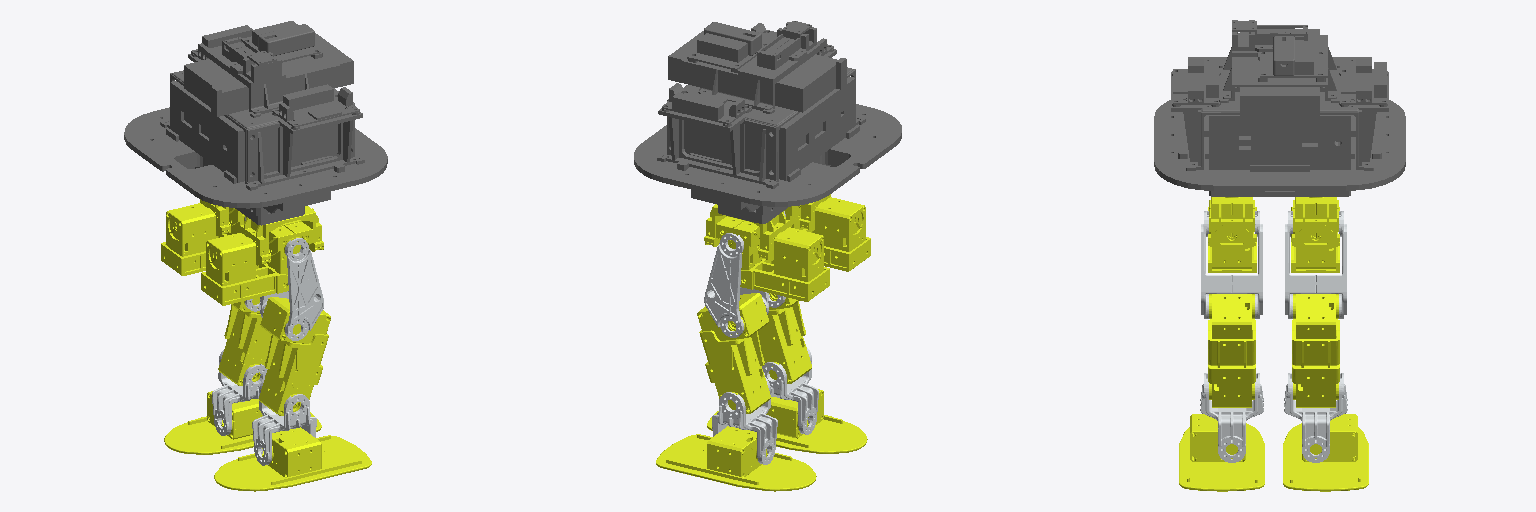
robot.urdf — exhx5_w_b_16:
<?xml version="1.0" encoding="utf-8"?>
<!-- This URDF was automatically created by SolidWorks to URDF Exporter! Originally created by [author] ([email redacted]) 
     Commit Version: 1.5.1-0-g916b5db  Build Version: 1.5.7152.31018
     For more information, please see http://wiki.ros.org/sw_urdf_exporter -->
<robot
  name="exhx5_w_b_16">
  <link
    name="body_link">
    <inertial>
      <origin
        xyz="0.00043545 0.00025536 0.10071"
        rpy="0 0 0" />
      <mass
        value="1.8238" />
      <inertia
        ixx="0.0025905"
        ixy="-5.6852E-06"
        ixz="-1.3106E-05"
        iyy="0.0024595"
        iyz="-1.261E-06"
        izz="0.0046407" />
    </inertial>
    <visual>
      <origin
        xyz="0 0 0"
        rpy="0 0 0" />
      <geometry>
        <mesh
          filename="../meshes/body_link.STL" />
      </geometry>
      <material
        name="">
        <color
          rgba="0.49804 0.49804 0.49804 1" />
      </material>
    </visual>
    <collision>
      <origin
        xyz="0 0 0"
        rpy="0 0 0" />
      <geometry>
        <mesh
          filename="../meshes/body_link.STL" />
      </geometry>
    </collision>
  </link>

  <link
    name="imu_link">
    <inertial>
      <origin
        xyz="-0.008387 1.336E-17 -0.0069463"
        rpy="0 0 0" />
      <mass
        value="0.0062931" />
      <inertia
        ixx="3.2242E-07"
        ixy="3.3527E-22"
        ixz="-6.9193E-08"
        iyy="9.2229E-07"
        iyz="-8.0392E-22"
        izz="1.1018E-06" />
    </inertial>
    <visual>
      <origin
        xyz="0 0 0"
        rpy="0 0 0" />
      <geometry>
        <mesh
          filename="../meshes/imu_link.STL" />
      </geometry>
      <material
        name="">
        <color
          rgba="0.79216 0.81961 0.93333 1" />
      </material>
    </visual>
    <collision>
      <origin
        xyz="0 0 0"
        rpy="0 0 0" />
      <geometry>
        <mesh
          filename="../meshes/imu_link.STL" />
      </geometry>
    </collision>
  </link>
  <joint
    name="imu"
    type="fixed">
    <origin
      xyz="0 0 0.0492"
      rpy="0 0 0" />
    <parent
      link="body_link" />
    <child
      link="imu_link" />
    <axis
      xyz="0 0 0" />
    <limit
      lower="-3.14"
      upper="3.14"
      effort="4"
      velocity="4" />
  </joint>
  <link
    name="l_hip_g_link">
    <inertial>
      <origin
        xyz="-0.0043797 -8.6604E-08 0.011813"
        rpy="0 0 0" />
      <mass
        value="0.061008" />
      <inertia
        ixx="1.167E-05"
        ixy="7.1767E-11"
        ixz="9.1442E-09"
        iyy="2.2342E-05"
        iyz="2.5177E-11"
        izz="2.4892E-05" />
    </inertial>
    <visual>
      <origin
        xyz="0 0 0"
        rpy="0 0 0" />
      <geometry>
        <mesh
          filename="../meshes/l_hip_g_link.STL" />
      </geometry>
      <material
        name="">
        <color
          rgba="0.9451 1 0.18431 1" />
      </material>
    </visual>
    <collision>
      <origin
        xyz="0 0 0"
        rpy="0 0 0" />
      <geometry>
        <mesh
          filename="../meshes/l_hip_g_link.STL" />
      </geometry>
    </collision>
  </link>
  <joint
    name="l_hip_g"
    type="fixed">
    <origin
      xyz=".001 .030 0"
      rpy="0 0 0" />
    <parent
      link="body_link" />
    <child
      link="l_hip_g_link" />
    <axis
      xyz="0 0 0" />
  </joint>
  <link
    name="l_hip_roll_link">
    <inertial>
      <origin
        xyz="0.013831 0.00033457 0.025453"
        rpy="0 0 0" />
      <mass
        value="0.2969" />
      <inertia
        ixx="7.8136E-05"
        ixy="7.265E-07"
        ixz="-6.9809E-08"
        iyy="9.2183E-05"
        iyz="-5.6881E-11"
        izz="7.1034E-05" />
    </inertial>
    <visual>
      <origin
        xyz="0 0 0"
        rpy="0 0 0" />
      <geometry>
        <mesh
          filename="../meshes/l_hip_roll_link.STL" />
      </geometry>
      <material
        name="">
        <color
          rgba="0.9451 1 0.18431 1" />
      </material>
    </visual>
    <collision>
      <origin
        xyz="0 0 0"
        rpy="0 0 0" />
      <geometry>
        <mesh
          filename="../meshes/l_hip_roll_link.STL" />
      </geometry>
    </collision>
  </link>
  <joint
    name="l_hip_roll"
    type="revolute">
    <origin
      xyz="0 0 0"
      rpy="3.1416 1.5708 0" />
    <parent
      link="l_hip_g_link" />
    <child
      link="l_hip_roll_link" />
    <axis
      xyz="0 0 1" />
    <limit
      lower="-3.14"
      upper="3.14"
      effort="4"
      velocity="4" />
  </joint>
  <link
    name="l_hip_pitch_link">
    <inertial>
      <origin
        xyz="0.041225 -0.007321 -5.0713E-08"
        rpy="0 0 0" />
      <mass
        value="0.051592" />
      <inertia
        ixx="2.7959E-05"
        ixy="2.0752E-06"
        ixz="-8.0934E-11"
        iyy="4.8156E-05"
        iyz="3.6317E-11"
        izz="2.9604E-05" />
    </inertial>
    <visual>
      <origin
        xyz="0 0 0"
        rpy="0 0 0" />
      <geometry>
        <mesh
          filename="../meshes/l_hip_pitch_link.STL" />
      </geometry>
      <material
        name="">
        <color
          rgba="0.89804 0.91765 0.92941 1" />
      </material>
    </visual>
    <collision>
      <origin
        xyz="0 0 0"
        rpy="0 0 0" />
      <geometry>
        <mesh
          filename="../meshes/l_hip_pitch_link.STL" />
      </geometry>
    </collision>
  </link>
  <joint
    name="l_hip_pitch"
    type="revolute">
    <origin
      xyz="0 0 0"
      rpy="1.5708 0 0" />
    <parent
      link="l_hip_roll_link" />
    <child
      link="l_hip_pitch_link" />
    <axis
      xyz="0 0 1" />
    <limit
      lower="-3.14"
      upper="3.14"
      effort="4"
      velocity="4" />
  </joint>
  <link
    name="l_knee_link">
    <inertial>
      <origin
        xyz="0.033756 -0.0084189 -6.6115E-09"
        rpy="0 0 0" />
      <mass
        value="0.28878" />
      <inertia
        ixx="6.6724E-05"
        ixy="7.5004E-07"
        ixz="-8.4578E-07"
        iyy="6.5699E-05"
        iyz="4.1085E-07"
        izz="7.0381E-05" />
    </inertial>
    <visual>
      <origin
        xyz="0 0 0"
        rpy="0 0 0" />
      <geometry>
        <mesh
          filename="../meshes/l_knee_link.STL" />
      </geometry>
      <material
        name="">
        <color
          rgba="0.9451 1 0.18431 1" />
      </material>
    </visual>
    <collision>
      <origin
        xyz="0 0 0"
        rpy="0 0 0" />
      <geometry>
        <mesh
          filename="../meshes/l_knee_link.STL" />
      </geometry>
    </collision>
  </link>
  <joint
    name="l_knee"
    type="revolute">
    <origin
      xyz="0.075954 0 0"
      rpy="0 0 0" />
    <parent
      link="l_hip_pitch_link" />
    <child
      link="l_knee_link" />
    <axis
      xyz="0 0 1" />
    <limit
      lower="-3.14"
      upper="3.14"
      effort="4"
      velocity="4" />
  </joint>
  <link
    name="l_ank_pitch_link">
    <inertial>
      <origin
        xyz="0.022786 -7.3909E-09 -7.1981E-06"
        rpy="0 0 0" />
      <mass
        value="0.044772" />
      <inertia
        ixx="1.777E-05"
        ixy="8.555E-14"
        ixz="-3.3713E-09"
        iyy="1.7119E-05"
        iyz="1.7593E-11"
        izz="1.8661E-05" />
    </inertial>
    <visual>
      <origin
        xyz="0 0 0"
        rpy="0 0 0" />
      <geometry>
        <mesh
          filename="../meshes/l_ank_pitch_link.STL" />
      </geometry>
      <material
        name="">
        <color
          rgba="0.89804 0.91765 0.92941 1" />
      </material>
    </visual>
    <collision>
      <origin
        xyz="0 0 0"
        rpy="0 0 0" />
      <geometry>
        <mesh
          filename="../meshes/l_ank_pitch_link.STL" />
      </geometry>
    </collision>
  </link>
  <joint
    name="l_ank_pitch"
    type="revolute">
    <origin
      xyz="0.074602 0 0"
      rpy="3.1416 0 0" />
    <parent
      link="l_knee_link" />
    <child
      link="l_ank_pitch_link" />
    <axis
      xyz="0 0 1" />
    <limit
      lower="-3.14"
      upper="3.14"
      effort="4"
      velocity="4" />
  </joint>
  <link
    name="l_ank_roll_link">
    <inertial>
      <origin
        xyz="0.0047069 0.010728 0.0015299"
        rpy="0 0 0" />
      <mass
        value="0.16774" />
      <inertia
        ixx="0.00012039"
        ixy="-3.7428E-09"
        ixz="4.4069E-08"
        iyy="8.7735E-05"
        iyz="7.0469E-07"
        izz="4.7866E-05" />
    </inertial>
    <visual>
      <origin
        xyz="0 0 0"
        rpy="0 0 0" />
      <geometry>
        <mesh
          filename="../meshes/l_ank_roll_link.STL" />
      </geometry>
      <material
        name="">
        <color
          rgba="0.9451 1 0.18431 1" />
      </material>
    </visual>
    <collision>
      <origin
        xyz="0 0 0"
        rpy="0 0 0" />
      <geometry>
        <mesh
          filename="../meshes/l_ank_roll_link.STL" />
      </geometry>
    </collision>
  </link>
  <joint
    name="l_ank_roll"
    type="revolute">
    <origin
      xyz="0.0465 0 0"
      rpy="-1.5708 0 0" />
    <parent
      link="l_ank_pitch_link" />
    <child
      link="l_ank_roll_link" />
    <axis
      xyz="0 0 1" />
    <limit
      lower="-3.14"
      upper="3.14"
      effort="4"
      velocity="4" />
  </joint>
  <link
    name="r_hip_g_link">
    <inertial>
      <origin
        xyz="-0.0043797 -8.6604E-08 0.011813"
        rpy="0 0 0" />
      <mass
        value="0.061008" />
      <inertia
        ixx="1.167E-05"
        ixy="7.1767E-11"
        ixz="9.1442E-09"
        iyy="2.2342E-05"
        iyz="2.5177E-11"
        izz="2.4892E-05" />
    </inertial>
    <visual>
      <origin
        xyz="0 0 0"
        rpy="0 0 0" />
      <geometry>
        <mesh
          filename="../meshes/r_hip_g_link.STL" />
      </geometry>
      <material
        name="">
        <color
          rgba="0.9451 1 0.18431 1" />
      </material>
    </visual>
    <collision>
      <origin
        xyz="0 0 0"
        rpy="0 0 0" />
      <geometry>
        <mesh
          filename="../meshes/r_hip_g_link.STL" />
      </geometry>
    </collision>
  </link>
  <joint
    name="r_hip_g"
    type="fixed">
    <origin
      xyz=".001 -.040 0"
      rpy="0 0 0" />
    <parent
      link="body_link" />
    <child
      link="r_hip_g_link" />
    <axis
      xyz="0 0 0" />
  </joint>
  <link
    name="r_hip_roll_link">
    <inertial>
      <origin
        xyz="0.013831 0.00033457 0.025453"
        rpy="0 0 0" />
      <mass
        value="0.2969" />
      <inertia
        ixx="7.8136E-05"
        ixy="7.265E-07"
        ixz="-6.9809E-08"
        iyy="9.2183E-05"
        iyz="-5.6881E-11"
        izz="7.1034E-05" />
    </inertial>
    <visual>
      <origin
        xyz="0 0 0"
        rpy="0 0 0" />
      <geometry>
        <mesh
          filename="../meshes/r_hip_roll_link.STL" />
      </geometry>
      <material
        name="">
        <color
          rgba="0.9451 1 0.18431 1" />
      </material>
    </visual>
    <collision>
      <origin
        xyz="0 0 0"
        rpy="0 0 0" />
      <geometry>
        <mesh
          filename="../meshes/r_hip_roll_link.STL" />
      </geometry>
    </collision>
  </link>
  <joint
    name="r_hip_roll"
    type="revolute">
    <origin
      xyz="0 0 0"
      rpy="3.1416 1.5708 0" />
    <parent
      link="r_hip_g_link" />
    <child
      link="r_hip_roll_link" />
    <axis
      xyz="0 0 1" />
    <limit
      lower="-3.14"
      upper="3.14"
      effort="4"
      velocity="4" />
  </joint>
  <link
    name="r_hip_pitch_link">
    <inertial>
      <origin
        xyz="0.041225 0.007321 5.0713E-08"
        rpy="0 0 0" />
      <mass
        value="0.051592" />
      <inertia
        ixx="2.7959E-05"
        ixy="-2.0752E-06"
        ixz="8.0934E-11"
        iyy="4.8156E-05"
        iyz="3.6317E-11"
        izz="2.9604E-05" />
    </inertial>
    <visual>
      <origin
        xyz="0 0 0"
        rpy="0 0 0" />
      <geometry>
        <mesh
          filename="../meshes/r_hip_pitch_link.STL" />
      </geometry>
      <material
        name="">
        <color
          rgba="0.89804 0.91765 0.92941 1" />
      </material>
    </visual>
    <collision>
      <origin
        xyz="0 0 0"
        rpy="0 0 0" />
      <geometry>
        <mesh
          filename="../meshes/r_hip_pitch_link.STL" />
      </geometry>
    </collision>
  </link>
  <joint
    name="r_hip_pitch"
    type="revolute">
    <origin
      xyz="0 0 0"
      rpy="-1.5708 0 0" />
    <parent
      link="r_hip_roll_link" />
    <child
      link="r_hip_pitch_link" />
    <axis
      xyz="0 0 1" />
    <limit
      lower="-3.14"
      upper="3.14"
      effort="4"
      velocity="4" />
  </joint>
  <link
    name="r_knee_link">
    <inertial>
      <origin
        xyz="0.033757 0.0084176 6.6115E-09"
        rpy="0 0 0" />
      <mass
        value="0.28878" />
      <inertia
        ixx="6.6724E-05"
        ixy="-7.5008E-07"
        ixz="8.458E-07"
        iyy="6.5699E-05"
        iyz="4.1081E-07"
        izz="7.0381E-05" />
    </inertial>
    <visual>
      <origin
        xyz="0 0 0"
        rpy="0 0 0" />
      <geometry>
        <mesh
          filename="../meshes/r_knee_link.STL" />
      </geometry>
      <material
        name="">
        <color
          rgba="0.9451 1 0.18431 1" />
      </material>
    </visual>
    <collision>
      <origin
        xyz="0 0 0"
        rpy="0 0 0" />
      <geometry>
        <mesh
          filename="../meshes/r_knee_link.STL" />
      </geometry>
    </collision>
  </link>
  <joint
    name="r_knee"
    type="revolute">
    <origin
      xyz="0.075954 0 0"
      rpy="0 0 0" />
    <parent
      link="r_hip_pitch_link" />
    <child
      link="r_knee_link" />
    <axis
      xyz="0 0 1" />
    <limit
      lower="-3.14"
      upper="3.14"
      effort="4"
      velocity="4" />
  </joint>
  <link
    name="r_ank_pitch_link">
    <inertial>
      <origin
        xyz="0.025786 -7.3887E-09 -7.1981E-06"
        rpy="0 0 0" />
      <mass
        value="0.044772" />
      <inertia
        ixx="1.777E-05"
        ixy="8.5434E-14"
        ixz="-3.3713E-09"
        iyy="1.7119E-05"
        iyz="1.7592E-11"
        izz="1.8661E-05" />
    </inertial>
    <visual>
      <origin
        xyz="0 0 0"
        rpy="0 0 0" />
      <geometry>
        <mesh
          filename="../meshes/r_ank_pitch_link.STL" />
      </geometry>
      <material
        name="">
        <color
          rgba="0.89804 0.91765 0.92941 1" />
      </material>
    </visual>
    <collision>
      <origin
        xyz="0 0 0"
        rpy="0 0 0" />
      <geometry>
        <mesh
          filename="../meshes/r_ank_pitch_link.STL" />
      </geometry>
    </collision>
  </link>
  <joint
    name="r_ank_pitch"
    type="revolute">
    <origin
      xyz="0.071602 0 0"
      rpy="3.1416 0 0" />
    <parent
      link="r_knee_link" />
    <child
      link="r_ank_pitch_link" />
    <axis
      xyz="0 0 1" />
    <limit
      lower="-3.14"
      upper="3.14"
      effort="4"
      velocity="4" />
  </joint>
  <link
    name="r_ank_roll_link">
    <inertial>
      <origin
        xyz="0.0077069 -0.010728 0.0015299"
        rpy="0 0 0" />
      <mass
        value="0.16774" />
      <inertia
        ixx="0.00012039"
        ixy="3.743E-09"
        ixz="4.407E-08"
        iyy="8.7735E-05"
        iyz="-7.0467E-07"
        izz="4.7866E-05" />
    </inertial>
    <visual>
      <origin
        xyz="0 0 0"
        rpy="0 0 0" />
      <geometry>
        <mesh
          filename="../meshes/r_ank_roll_link.STL" />
      </geometry>
      <material
        name="">
        <color
          rgba="0.9451 1 0.18431 1" />
      </material>
    </visual>
    <collision>
      <origin
        xyz="0 0 0"
        rpy="0 0 0" />
      <geometry>
        <mesh
          filename="../meshes/r_ank_roll_link.STL" />
      </geometry>
    </collision>
  </link>
  <joint
    name="r_ank_roll"
    type="revolute">
    <origin
      xyz="0.0465 0 0"
      rpy="1.5708 0 0" />
    <parent
      link="r_ank_pitch_link" />
    <child
      link="r_ank_roll_link" />
    <axis
      xyz="0 0 1" />
    <limit
      lower="-3.14"
      upper="3.14"
      effort="4"
      velocity="4" />
  </joint>
  <transmission name="r_hip_roll_tran">
    <type>transmission_interface/SimpleTransmission</type>
    <joint name="r_hip_roll">
      <hardwareInterface>hardware_interface/EffortJointInterface</hardwareInterface>
    </joint>
    <actuator name="r_hip_roll_motor">
      <hardwareInterface>hardware_interface/EffortJointInterface</hardwareInterface>
      <mechanicalReduction>1</mechanicalReduction>
    </actuator>
  </transmission>
  <transmission name="r_hip_pitch_tran">
    <type>transmission_interface/SimpleTransmission</type>
    <joint name="r_hip_pitch">
      <hardwareInterface>hardware_interface/EffortJointInterface</hardwareInterface>
    </joint>
    <actuator name="r_hip_pitch_motor">
      <hardwareInterface>hardware_interface/EffortJointInterface</hardwareInterface>
      <mechanicalReduction>1</mechanicalReduction>
    </actuator>
  </transmission>
  <transmission name="r_knee_tran">
    <type>transmission_interface/SimpleTransmission</type>
    <joint name="r_knee">
      <hardwareInterface>hardware_interface/EffortJointInterface</hardwareInterface>
    </joint>
    <actuator name="r_knee_motor">
      <hardwareInterface>hardware_interface/EffortJointInterface</hardwareInterface>
      <mechanicalReduction>1</mechanicalReduction>
    </actuator>
  </transmission>
  <transmission name="r_ank_pitch_tran">
    <type>transmission_interface/SimpleTransmission</type>
    <joint name="r_ank_pitch">
      <hardwareInterface>hardware_interface/EffortJointInterface</hardwareInterface>
    </joint>
    <actuator name="r_ank_pitch_motor">
      <hardwareInterface>hardware_interface/EffortJointInterface</hardwareInterface>
      <mechanicalReduction>1</mechanicalReduction>
    </actuator>
  </transmission>
  <transmission name="r_ank_roll_tran">
    <type>transmission_interface/SimpleTransmission</type>
    <joint name="r_ank_roll">
      <hardwareInterface>hardware_interface/EffortJointInterface</hardwareInterface>
    </joint>
    <actuator name="r_ank_roll_motor">
      <hardwareInterface>hardware_interface/EffortJointInterface</hardwareInterface>
      <mechanicalReduction>1</mechanicalReduction>
    </actuator>
  </transmission>
  <transmission name="l_hip_roll_tran">
    <type>transmission_interface/SimpleTransmission</type>
    <joint name="l_hip_roll">
      <hardwareInterface>hardware_interface/EffortJointInterface</hardwareInterface>
    </joint>
    <actuator name="l_hip_roll_motor">
      <hardwareInterface>hardware_interface/EffortJointInterface</hardwareInterface>
      <mechanicalReduction>1</mechanicalReduction>
    </actuator>
  </transmission>
  <transmission name="l_hip_pitch_tran">
    <type>transmission_interface/SimpleTransmission</type>
    <joint name="l_hip_pitch">
      <hardwareInterface>hardware_interface/EffortJointInterface</hardwareInterface>
    </joint>
    <actuator name="l_hip_pitch_motor">
      <hardwareInterface>hardware_interface/EffortJointInterface</hardwareInterface>
      <mechanicalReduction>1</mechanicalReduction>
    </actuator>
  </transmission>
  <transmission name="l_knee_tran">
    <type>transmission_interface/SimpleTransmission</type>
    <joint name="l_knee">
      <hardwareInterface>hardware_interface/EffortJointInterface</hardwareInterface>
    </joint>
    <actuator name="l_knee_motor">
      <hardwareInterface>hardware_interface/EffortJointInterface</hardwareInterface>
      <mechanicalReduction>1</mechanicalReduction>
    </actuator>
  </transmission>
  <transmission name="l_ank_pitch_tran">
    <type>transmission_interface/SimpleTransmission</type>
    <joint name="l_ank_pitch">
      <hardwareInterface>hardware_interface/EffortJointInterface</hardwareInterface>
    </joint>
    <actuator name="l_ank_pitch_motor">
      <hardwareInterface>hardware_interface/EffortJointInterface</hardwareInterface>
      <mechanicalReduction>1</mechanicalReduction>
    </actuator>
  </transmission>
  <transmission name="l_ank_roll_tran">
    <type>transmission_interface/SimpleTransmission</type>
    <joint name="l_ank_roll">
      <hardwareInterface>hardware_interface/EffortJointInterface</hardwareInterface>
    </joint>
    <actuator name="l_ank_roll_motor">
      <hardwareInterface>hardware_interface/EffortJointInterface</hardwareInterface>
      <mechanicalReduction>1</mechanicalReduction>
    </actuator>
  </transmission>
</robot>

--- Facts derived from the render (not from the file) ---
The picture shows the robot from 3 angles, left to right: view 1: azimuth 30°, elevation 25°; view 2: azimuth 150°, elevation 25°; view 3: azimuth 270°, elevation 25°; orthographic projection.
Robot: exhx5_w_b_16 — 14 links, 13 joints (10 revolute, 3 fixed); root link body_link; default pose: every joint at zero.
Visible links, largest first — view 1: body_link, r_ank_roll_link, r_hip_roll_link, r_knee_link, l_hip_roll_link, l_ank_roll_link, r_hip_pitch_link, l_knee_link, r_ank_pitch_link, l_ank_pitch_link, r_hip_g_link; view 2: body_link, l_ank_roll_link, l_hip_roll_link, l_knee_link, r_hip_roll_link, r_ank_roll_link, l_hip_pitch_link, r_knee_link, l_ank_pitch_link, r_ank_pitch_link, l_hip_g_link; view 3: body_link, l_knee_link, r_knee_link, l_ank_roll_link, r_ank_roll_link, l_hip_pitch_link, r_hip_pitch_link, l_hip_g_link, r_hip_g_link, r_ank_pitch_link, l_ank_pitch_link, l_hip_roll_link (+1 smaller).
Boxes of the visible links, left/top/right/bottom form: body_link: left=124, top=21, right=387, bottom=225; r_ank_roll_link: left=214, top=427, right=371, bottom=491; r_hip_roll_link: left=201, top=220, right=312, bottom=305; r_knee_link: left=259, top=297, right=330, bottom=415; l_hip_roll_link: left=161, top=203, right=245, bottom=275; l_ank_roll_link: left=164, top=391, right=321, bottom=454; r_hip_pitch_link: left=260, top=238, right=323, bottom=340; l_knee_link: left=218, top=297, right=271, bottom=385; r_ank_pitch_link: left=252, top=379, right=316, bottom=465; l_ank_pitch_link: left=212, top=350, right=267, bottom=435; r_hip_g_link: left=240, top=206, right=323, bottom=265; body_link: left=634, top=21, right=901, bottom=223; l_ank_roll_link: left=656, top=426, right=816, bottom=491; l_hip_roll_link: left=716, top=216, right=829, bottom=301; l_knee_link: left=697, top=293, right=770, bottom=413; r_hip_roll_link: left=784, top=197, right=870, bottom=271; r_ank_roll_link: left=707, top=389, right=867, bottom=453; l_hip_pitch_link: left=704, top=233, right=768, bottom=337; r_knee_link: left=758, top=293, right=811, bottom=383; l_ank_pitch_link: left=712, top=377, right=777, bottom=464; r_ank_pitch_link: left=762, top=346, right=818, bottom=434; l_hip_g_link: left=704, top=204, right=789, bottom=260; body_link: left=1154, top=20, right=1405, bottom=196; l_knee_link: left=1292, top=294, right=1339, bottom=407; r_knee_link: left=1208, top=294, right=1255, bottom=407; l_ank_roll_link: left=1283, top=414, right=1368, bottom=491; r_ank_roll_link: left=1179, top=414, right=1264, bottom=491; l_hip_pitch_link: left=1285, top=211, right=1346, bottom=318; r_hip_pitch_link: left=1201, top=211, right=1262, bottom=318; l_hip_g_link: left=1291, top=197, right=1339, bottom=247; r_hip_g_link: left=1208, top=197, right=1256, bottom=247; r_ank_pitch_link: left=1200, top=373, right=1263, bottom=462; l_ank_pitch_link: left=1284, top=373, right=1347, bottom=462; l_hip_roll_link: left=1291, top=200, right=1339, bottom=272.
Size in the robot's own frame: 0.185 by 0.21 by 0.3893 metres.
Meshes: 14 distinct files referenced, 14 mesh visuals loaded (14 binary STL).
